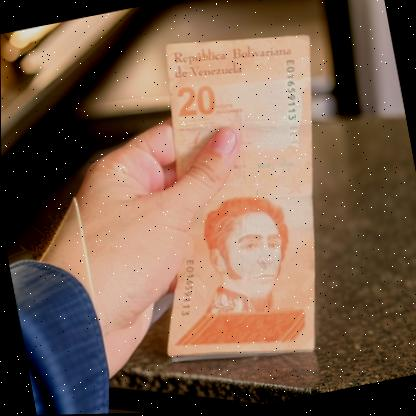twenty-front-vef: (111, 16, 366, 380)
